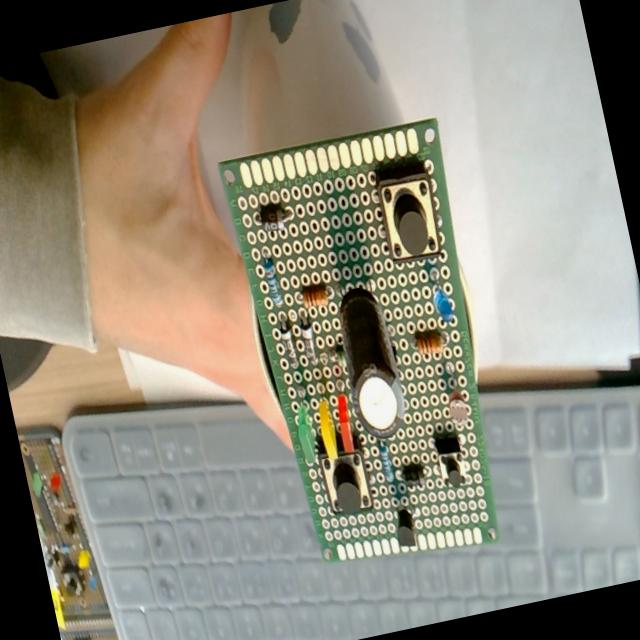Electrolytic capacitor: (328, 278, 413, 448)
diode: (256, 202, 292, 234), (298, 320, 319, 364), (278, 320, 298, 366), (400, 462, 428, 490)
led: (308, 366, 342, 460), (332, 394, 358, 456)
resistor: (262, 259, 284, 307), (414, 330, 444, 360), (301, 284, 329, 310), (378, 444, 396, 484), (335, 348, 348, 368)
switch: (372, 162, 447, 266), (316, 437, 374, 517), (433, 435, 469, 490)
transistor: (392, 508, 418, 550)
